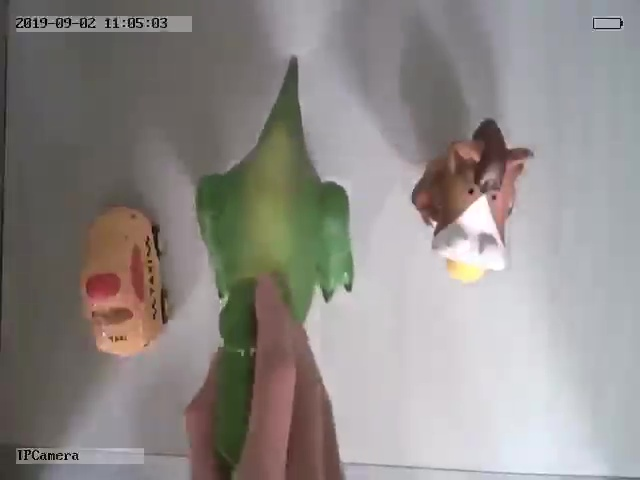car: (82, 205, 171, 356)
horse: (410, 118, 534, 285)
